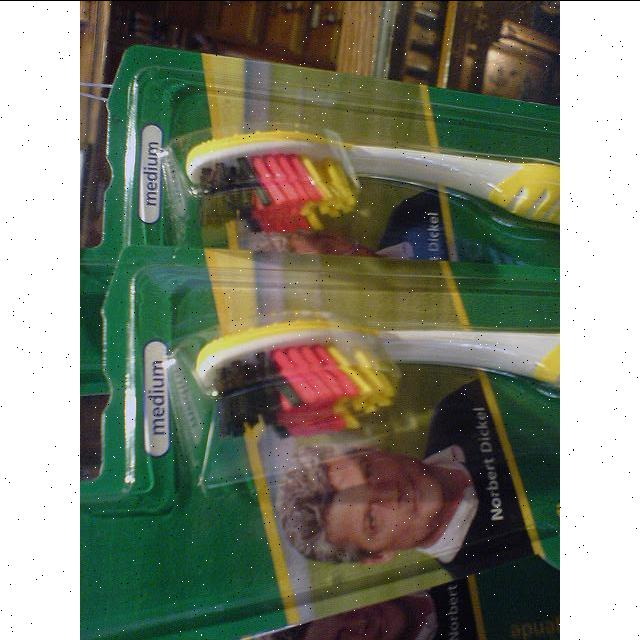toothbrush: (193, 316, 554, 438), (185, 128, 560, 234)
